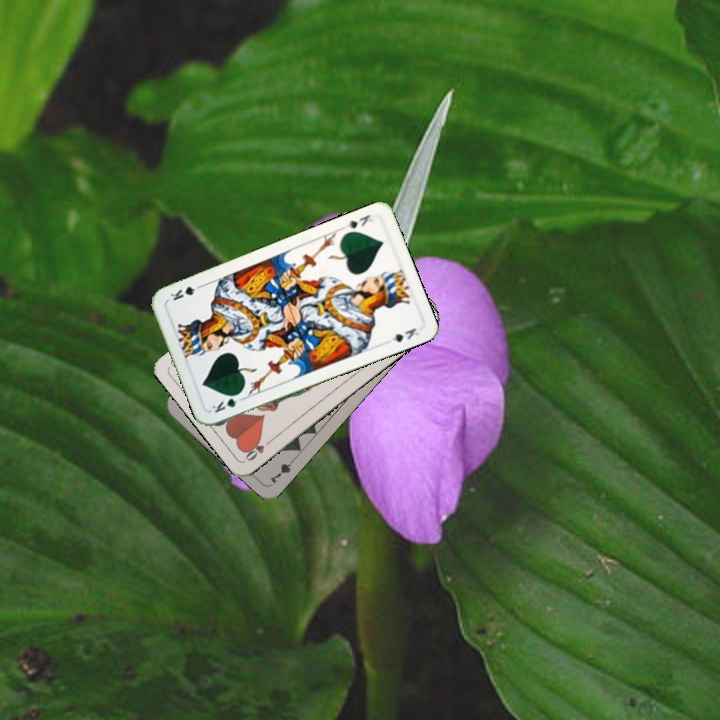G7: (265, 453, 299, 486)
GK: (208, 389, 247, 416), (338, 210, 375, 232)
HO: (241, 434, 276, 464)
